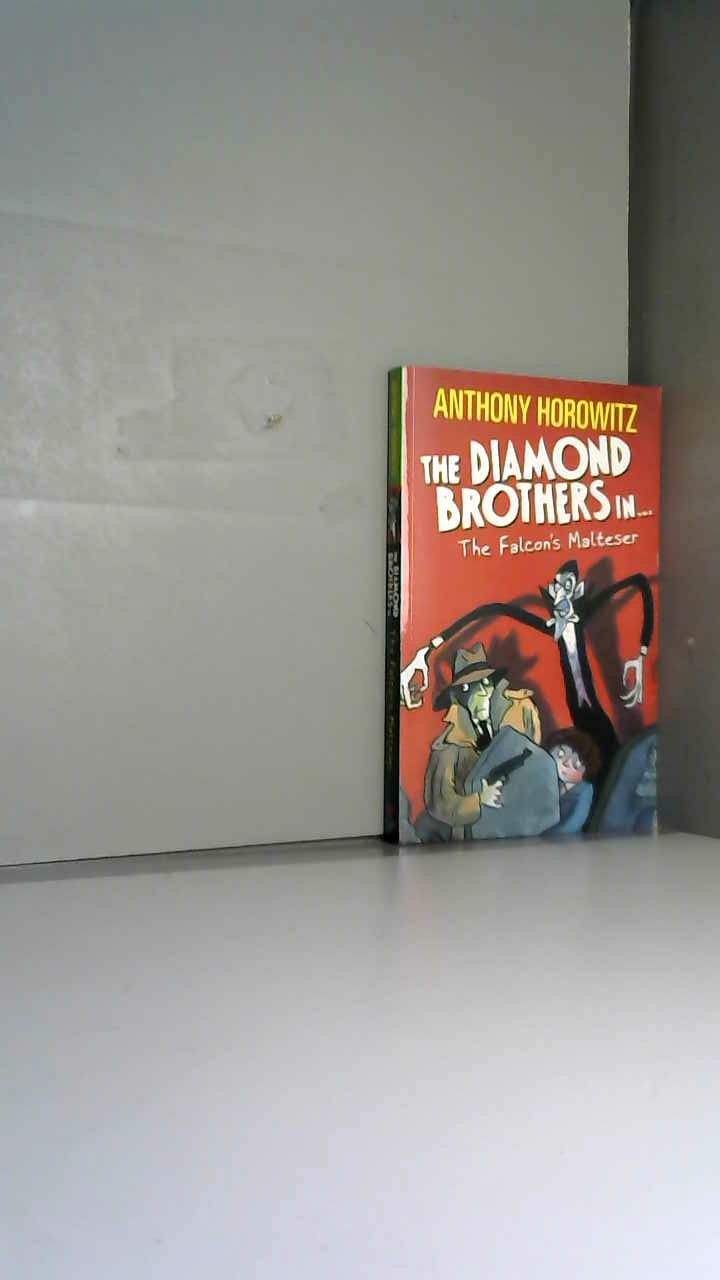book: (360, 330, 720, 875)
